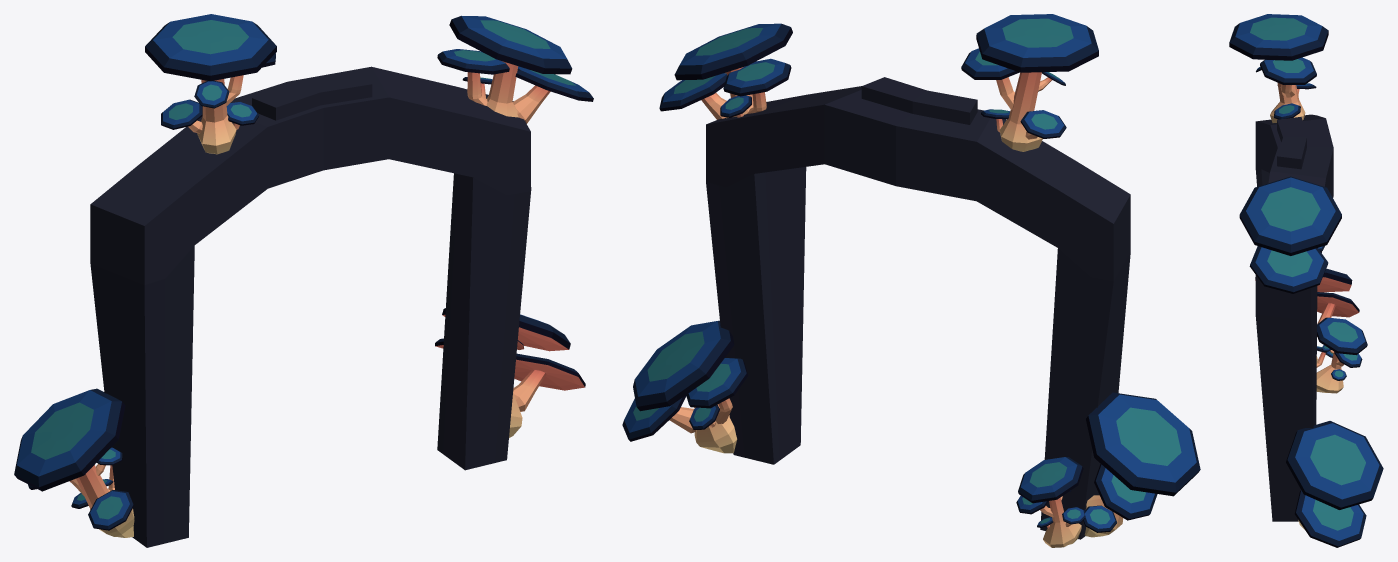
Rendered from Sign_ShroomMemorial.fbx.
3 renders of one model, left to right at view 1: azimuth 30°, elevation 25°; view 2: azimuth 150°, elevation 25°; view 3: azimuth 270°, elevation 25°, orthographic. The views are drawn at different scales.
Parts seen in each view (by area): view 1: CubeHome.004; view 2: CubeHome.004; view 3: CubeHome.004.
Part boxes in pixels (bbox=[...]): CubeHome.004: bbox=[14, 14, 593, 547]; CubeHome.004: bbox=[622, 14, 1200, 547]; CubeHome.004: bbox=[1229, 14, 1383, 547].
Size of the model in its own units: 505 by 420 by 153.
